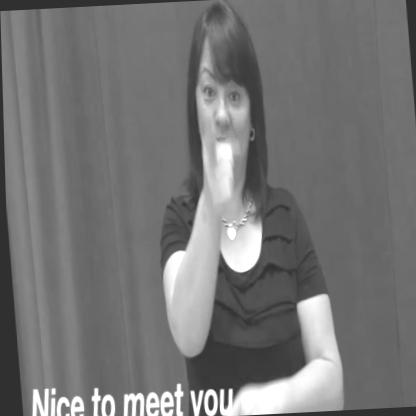NiceToMeetYou: (180, 99, 279, 260)
